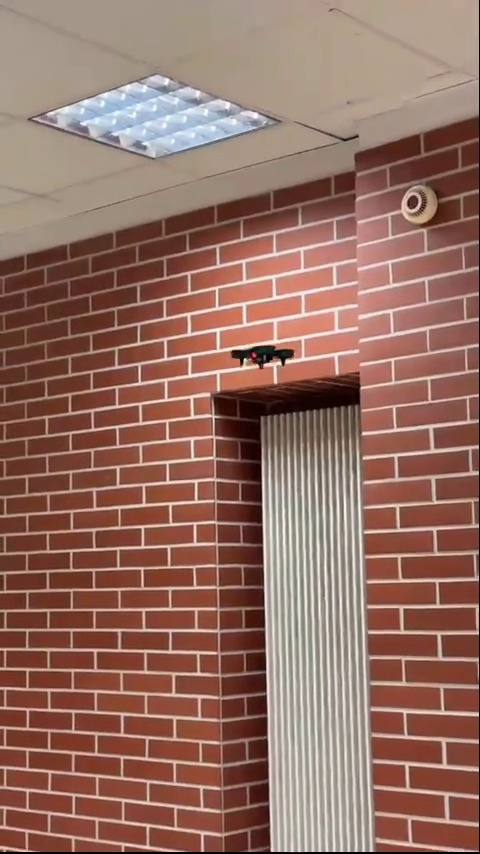drone: (234, 345, 292, 371)
